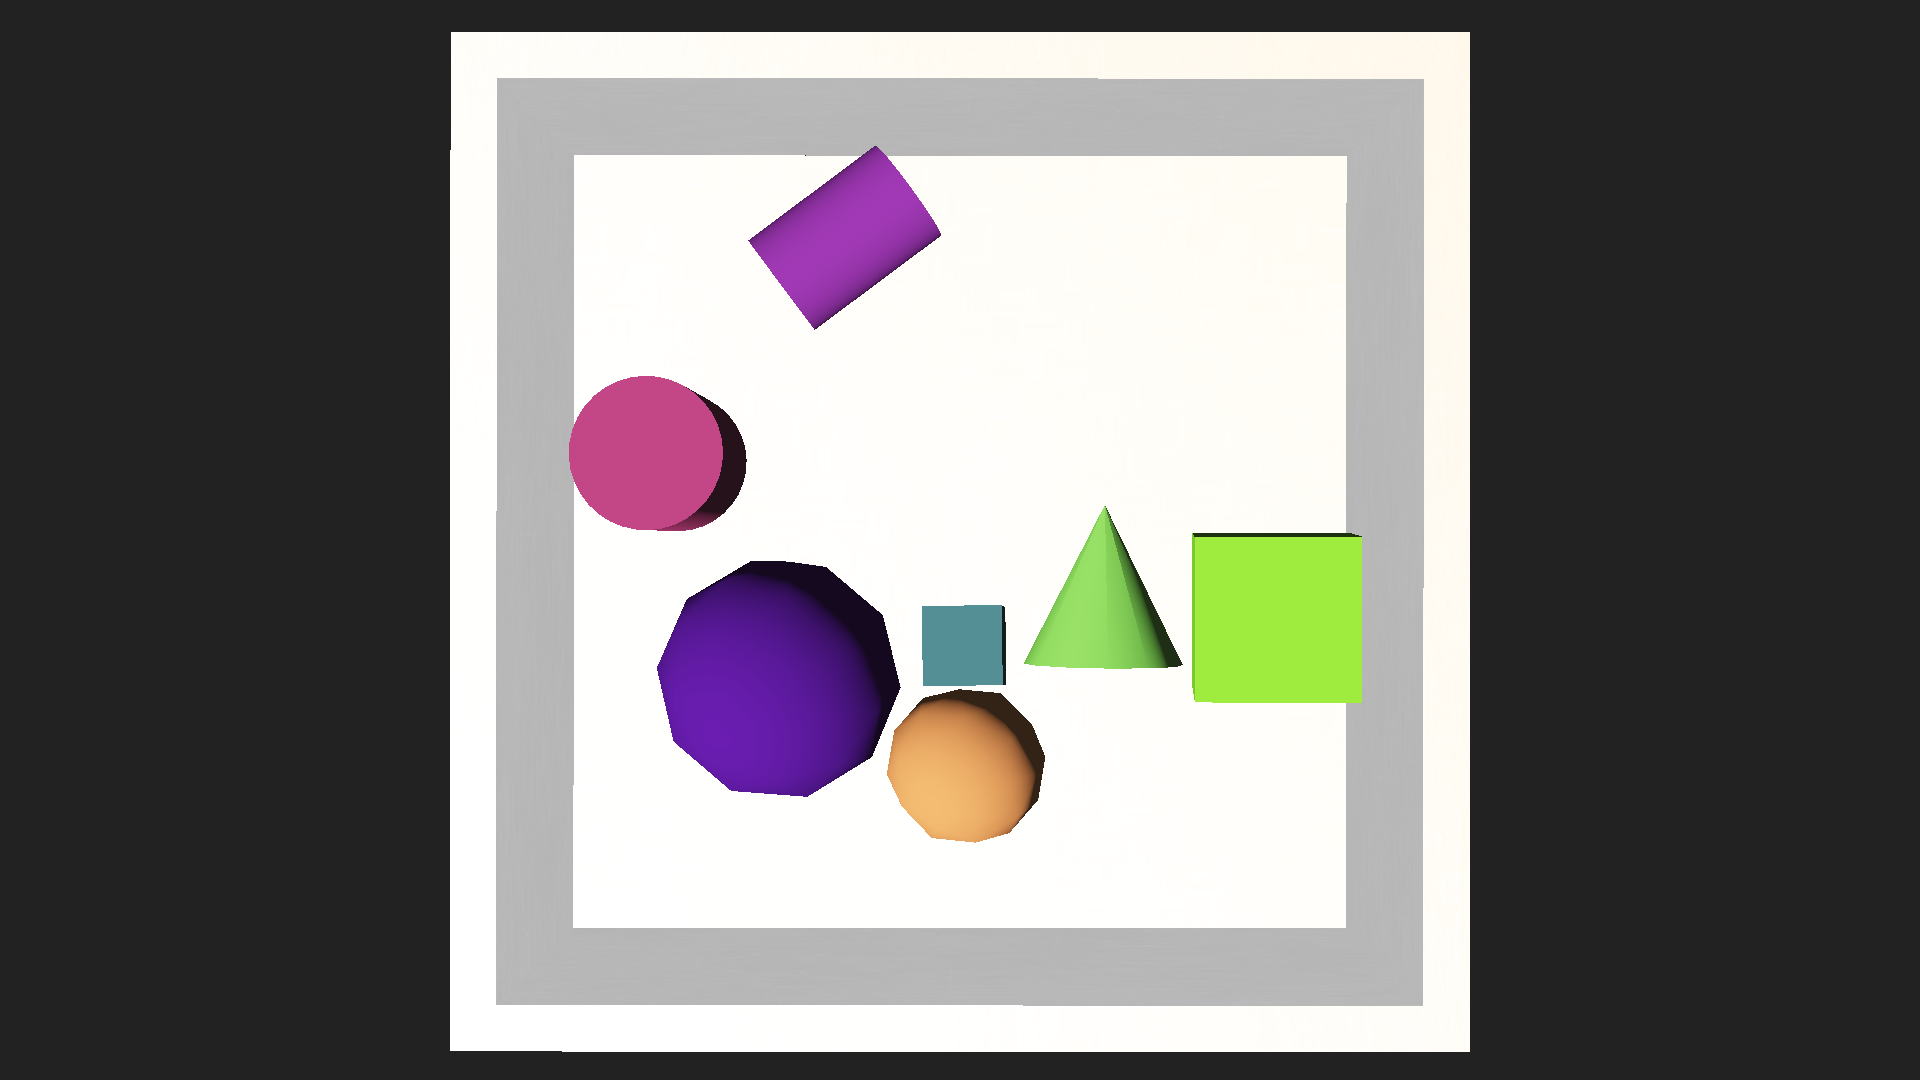3: (1178, 531, 1375, 703), (920, 603, 1007, 690)
cone: (742, 136, 942, 334), (568, 376, 746, 530)
cylinder: (1029, 502, 1182, 669)
sphere: (655, 555, 899, 799), (885, 684, 1044, 844)
